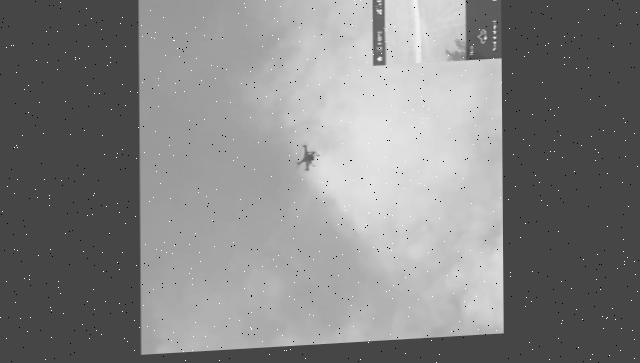drone: (293, 146, 318, 180)
